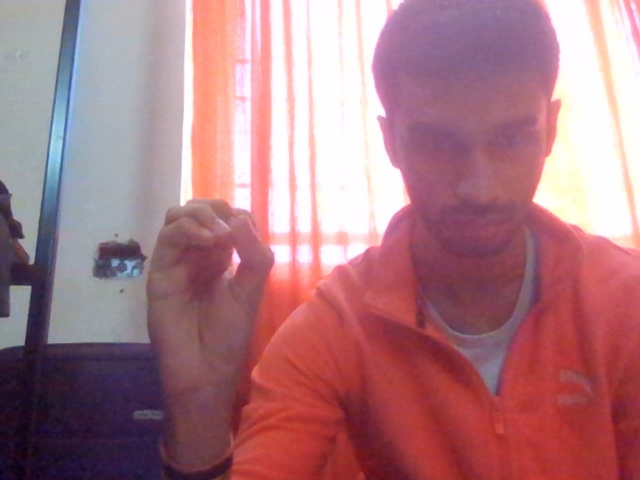O: (121, 160, 315, 415)
